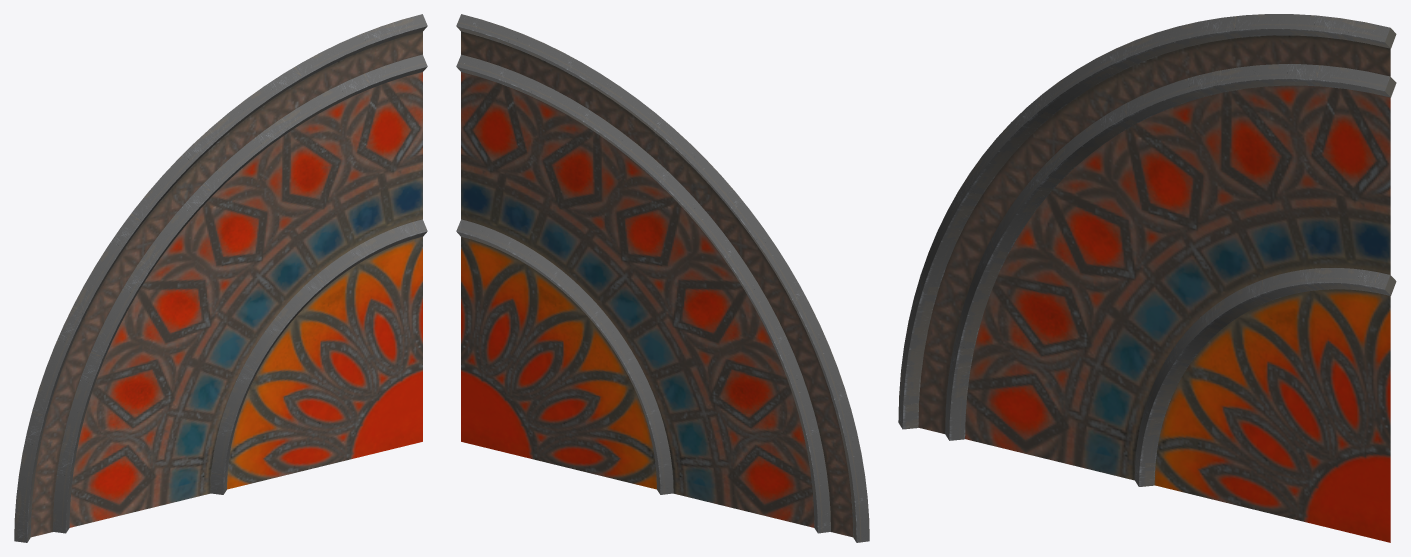
The model's file is SM_OrnamentCenter.FBX.
The picture shows the model from 3 angles, left to right: view 1: azimuth 30°, elevation 25°; view 2: azimuth 150°, elevation 25°; view 3: azimuth 330°, elevation 25°; orthographic projection. The views are drawn at different scales.
Visible parts, largest first — view 1: SM_OrnamentCenter; view 2: SM_OrnamentCenter; view 3: SM_OrnamentCenter.
Part boxes in pixels (x1=…): SM_OrnamentCenter: x1=14, y1=14, x2=427, y2=542; SM_OrnamentCenter: x1=456, y1=14, x2=869, y2=542; SM_OrnamentCenter: x1=898, y1=14, x2=1396, y2=542.
Bounding box in the file's own units: 222 × 9 × 222.
